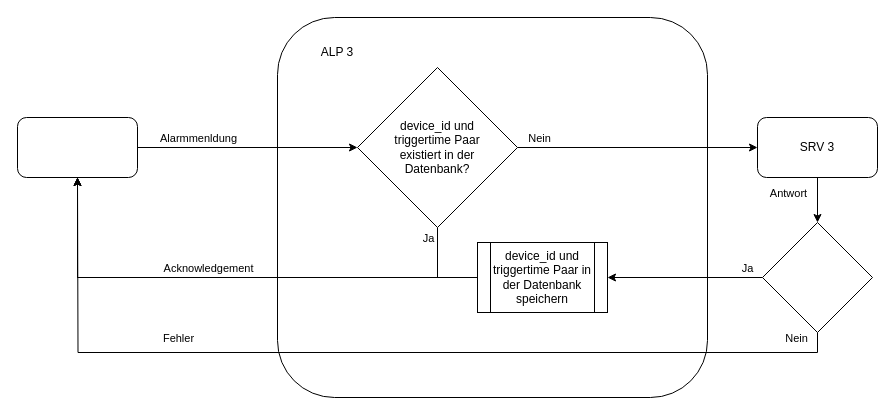
This 895x415 diagram has some shape labels left out. Each missing label, with the centre of its shape:
"Erfolgreich?" belongs at [817,277].
"SRV 2" belongs at [77,147].
